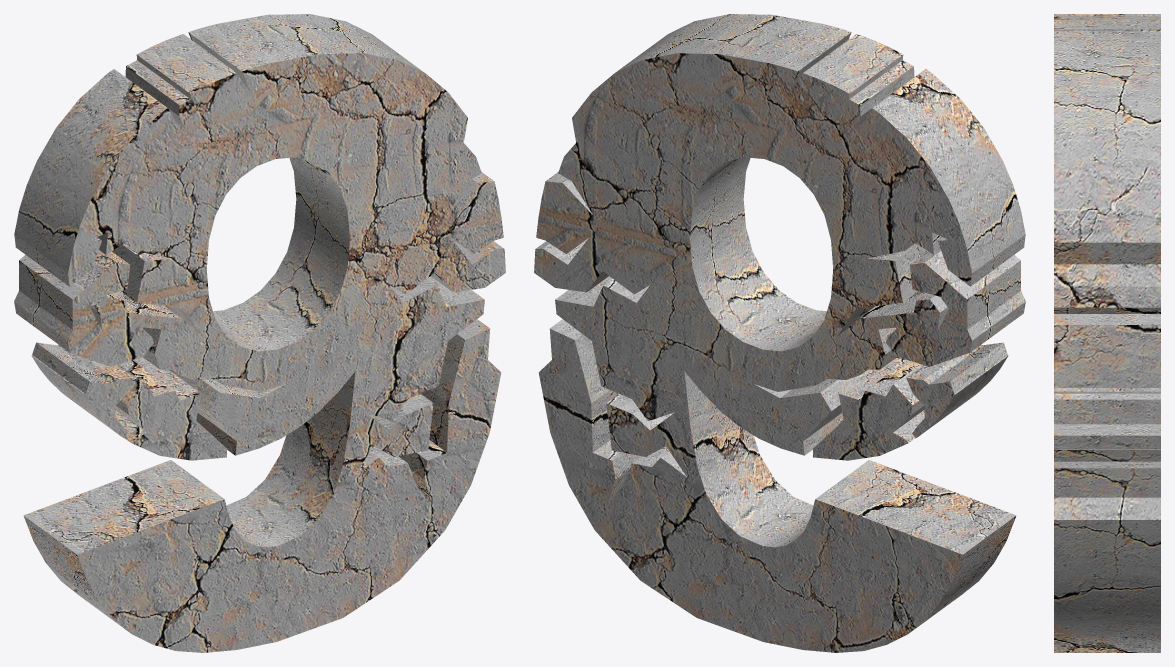
3 renders of one model, left to right at view 1: azimuth 30°, elevation 25°; view 2: azimuth 150°, elevation 25°; view 3: azimuth 270°, elevation 25°, orthographic.
Visible parts, largest first — view 1: 9; view 2: 9; view 3: 9.
Part boxes in pixels (x1,y1,x2,y2): 9: (14, 14, 505, 652); 9: (534, 14, 1025, 652); 9: (1054, 14, 1160, 652).
Size of the model in its own units: 70.65 by 89.42 by 15.
Materials: 1 (1 with a texture image).
